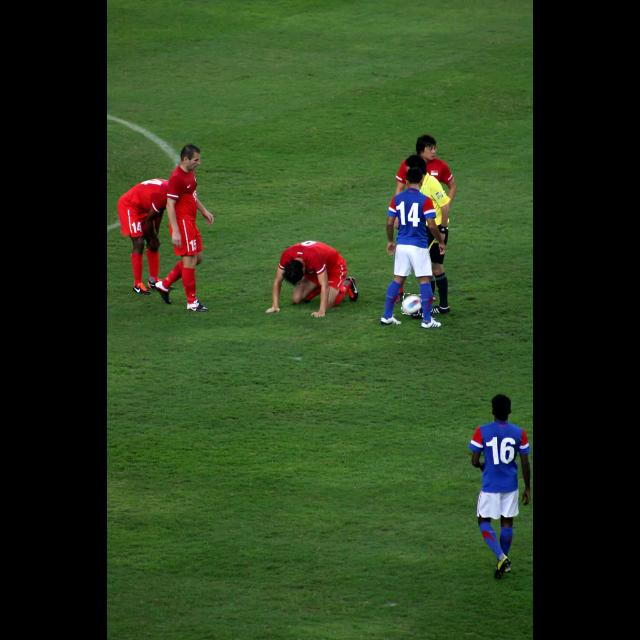Football: (402, 294, 422, 316)
